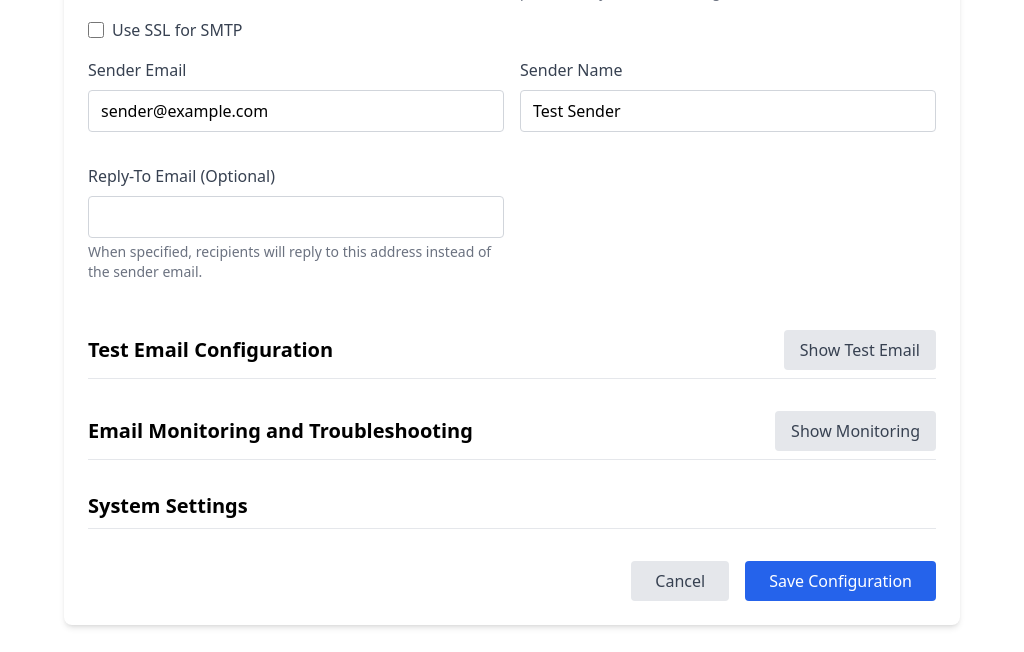
Test case: Test Email Functionality › SMTP Connection Testing › should test SMTP connection successfully
The width and height of the screenshot is (1024, 652).
(page scrolled)
Note: Expand the Test Email Configuration section (where SMTP Connection Test is now located)
Click the button "Show Test Email".
click(860, 350)  # box x1=784 y1=330 x2=936 y2=370
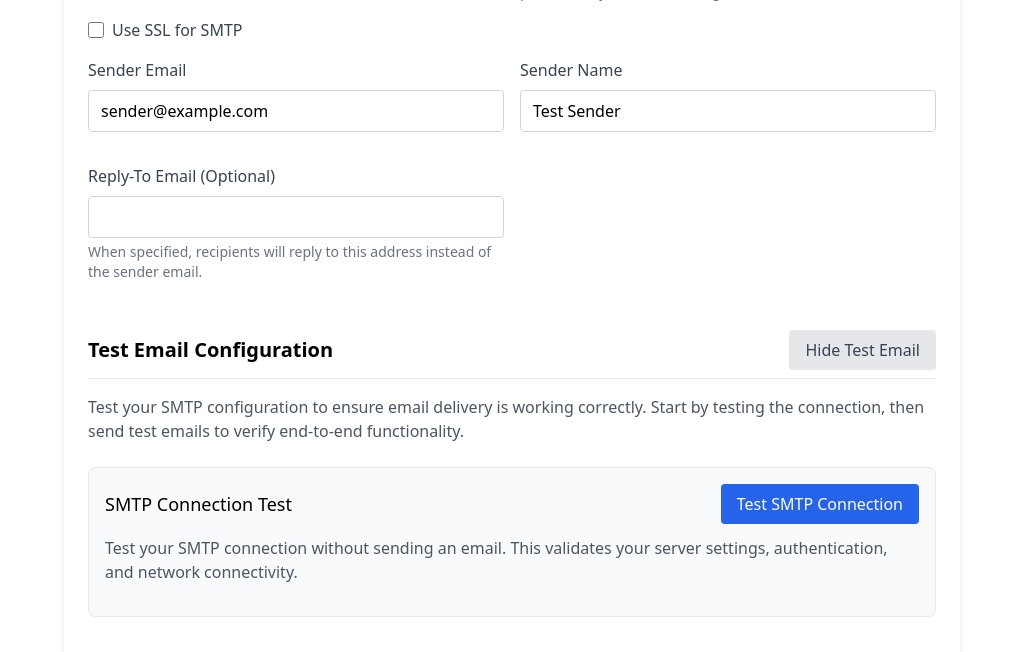
Expected: the button "Test SMTP Connection" is shown
Note: Click test SMTP connection button
Click the button "Test SMTP Connection".
click(820, 504)  # box x1=721 y1=484 x2=919 y2=524
(page scrolled)
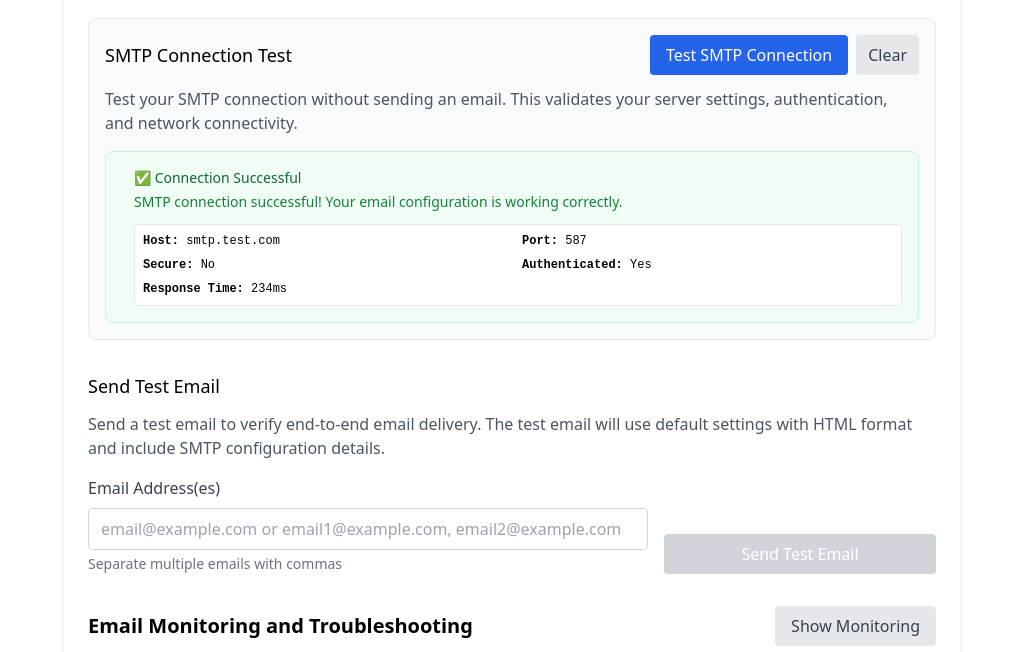
Expected: the heading "✅ Connection Successful" is shown, x1=134 y1=168 x2=302 y2=187
Expected: the text "smtp.test.com" is shown, x1=186 y1=234 x2=280 y2=248
Expected: the text "587" is shown, x1=565 y1=234 x2=587 y2=248
